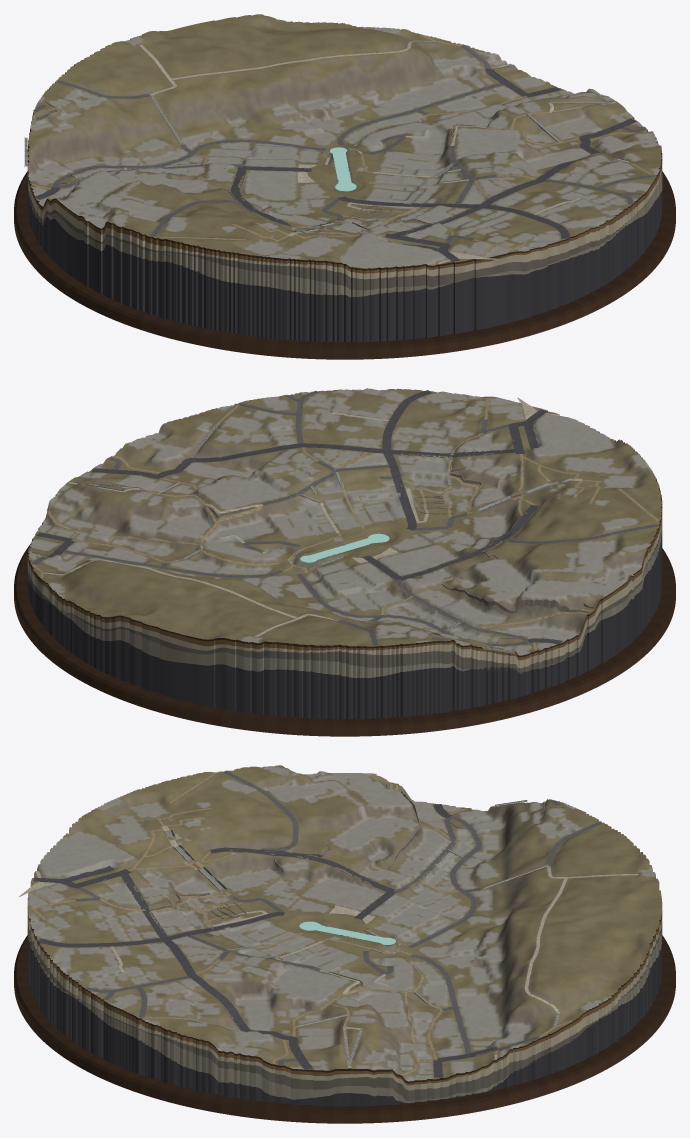
Rendered from terrain.glb.
The picture shows the model from 3 angles, top to bottom: view 1: azimuth 30°, elevation 25°; view 2: azimuth 150°, elevation 25°; view 3: azimuth 270°, elevation 25°; orthographic projection.
Visible parts, largest first — view 1: Terrain, Pedestal, Roads, Stairs_and_Walls, Water_Yubatake; view 2: Terrain, Pedestal, Roads, Stairs_and_Walls, Water_Yubatake; view 3: Terrain, Pedestal, Roads, Stairs_and_Walls, Water_Yubatake.
Part boxes in pixels (x1,y1,x2,y2): Terrain: (27,14,662,268); Pedestal: (14,22,675,359); Roads: (32,34,654,264); Stairs_and_Walls: (24,40,629,233); Water_Yubatake: (330,147,356,191); Terrain: (28,388,662,655); Pedestal: (14,411,675,736); Roads: (30,390,659,650); Stairs_and_Walls: (31,423,593,653); Water_Yubatake: (300,533,389,562); Terrain: (27,765,662,1081); Pedestal: (14,907,675,1123); Roads: (19,771,638,1077); Stairs_and_Walls: (149,781,565,1065); Water_Yubatake: (299,921,395,944).
Size of the model in its own units: 417 by 64.51 by 417.
